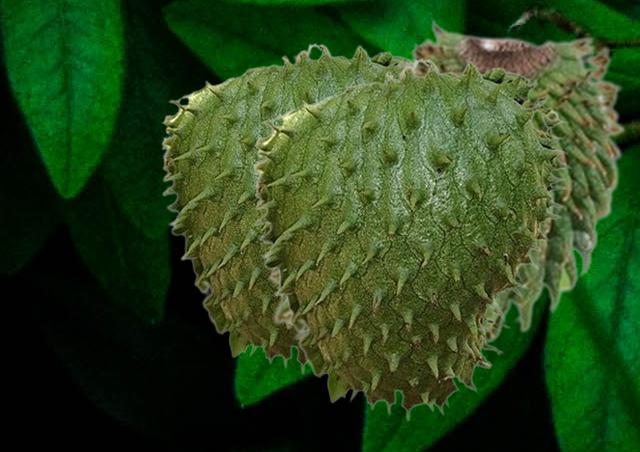guyabano: (266, 18, 625, 343), (253, 57, 571, 421), (161, 42, 407, 374)
